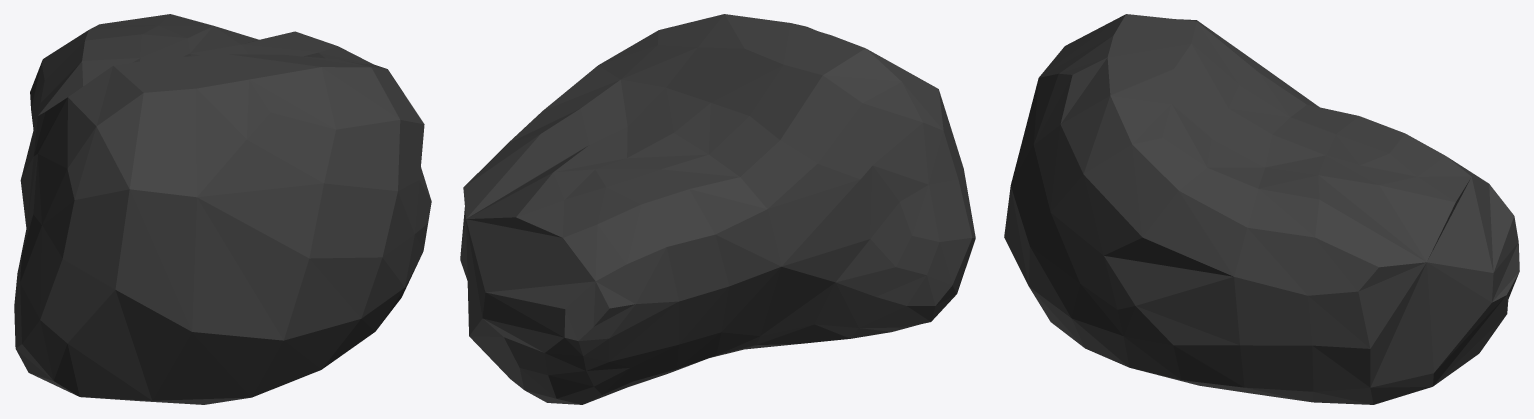
The model's file is RFL_carpal5.glb.
The picture shows the model from 3 angles, left to right: view 1: azimuth 30°, elevation 25°; view 2: azimuth 150°, elevation 25°; view 3: azimuth 270°, elevation 25°; orthographic projection. The views are drawn at different scales.
Visible parts, largest first — view 1: RFL_carpal5; view 2: RFL_carpal5; view 3: RFL_carpal5.
Part boxes in pixels (bbox=[...]): RFL_carpal5: bbox=[14, 14, 431, 404]; RFL_carpal5: bbox=[460, 14, 975, 404]; RFL_carpal5: bbox=[1004, 14, 1519, 404].
Size of the model in its own units: 7.84 by 5.48 by 8.98.
Materials: 1 (1 with a texture image).
